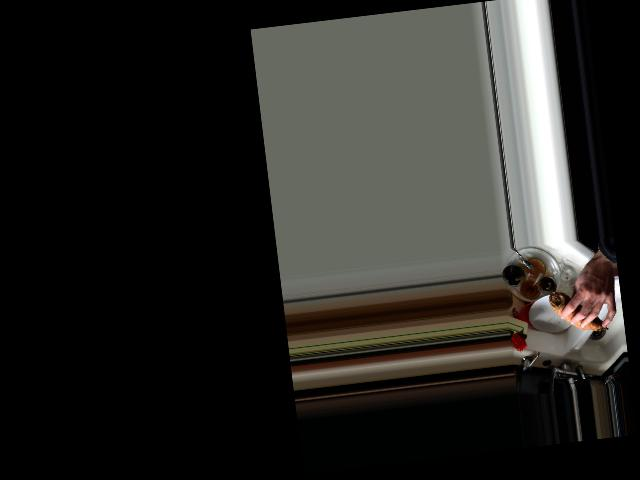sweet_potato: (550, 286, 609, 335)
